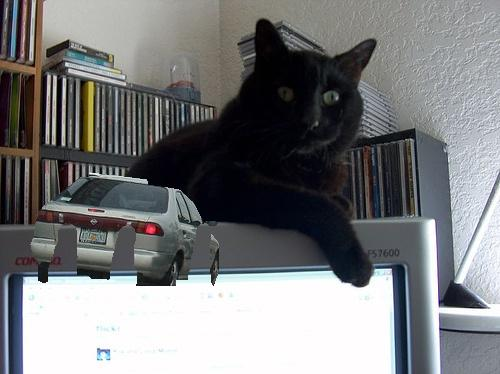tampered: (31, 173, 219, 286)
